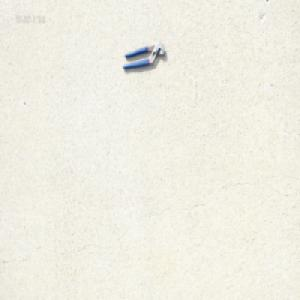Pliers: (121, 40, 166, 71)
